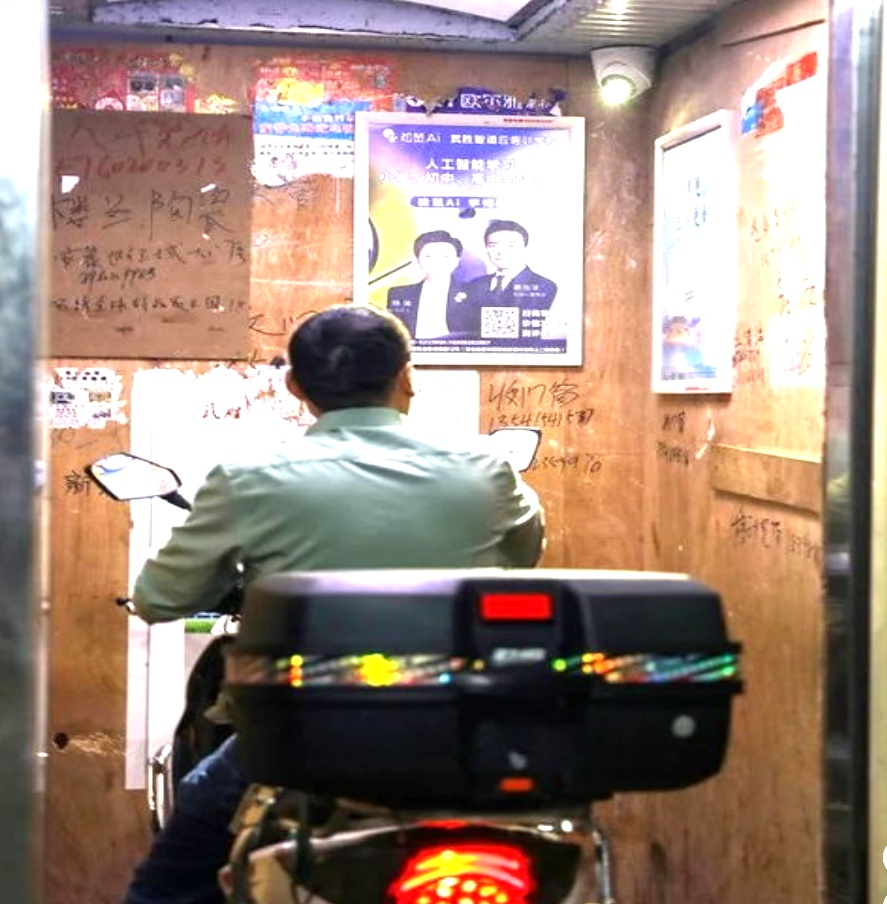ebike: (87, 426, 748, 898)
person: (134, 310, 540, 898)
